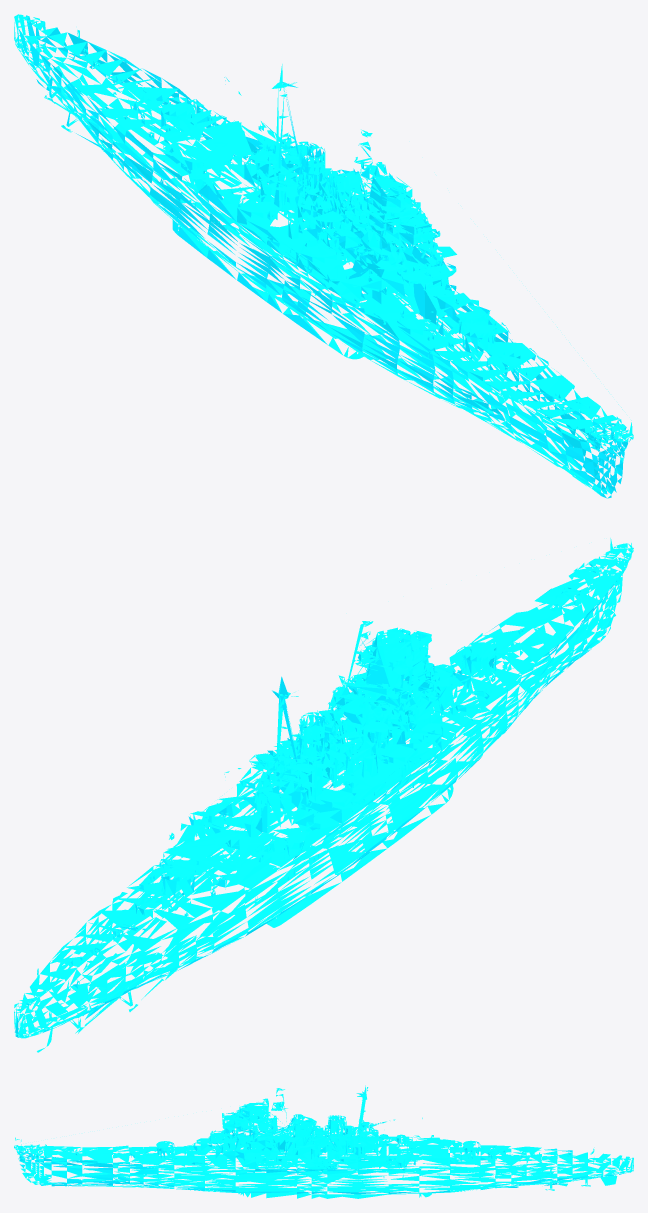
File: Maya.glb
3 renders of one model, top to bottom at view 1: azimuth 30°, elevation 25°; view 2: azimuth 150°, elevation 25°; view 3: azimuth 270°, elevation 25°, orthographic. The views are drawn at different scales.
Size of the model in its own units: 1.47 by 2.45 by 13.57.
